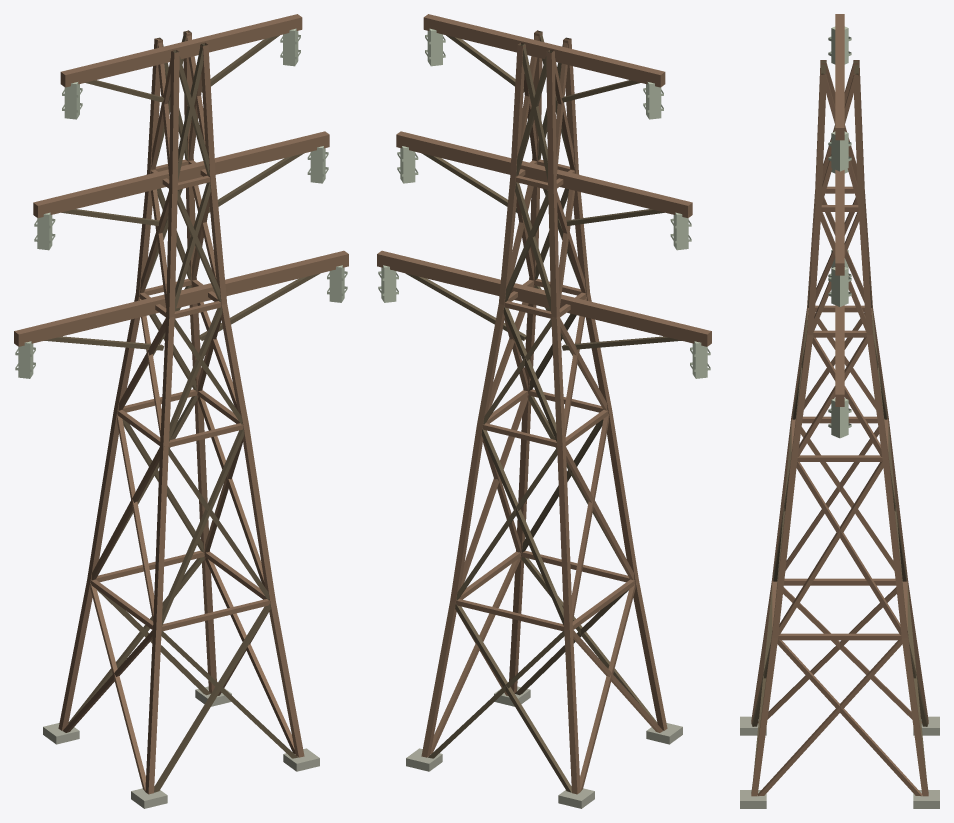
The model's file is ua_power_pylon_rusted.obj.
The picture shows the model from 3 angles, left to right: view 1: azimuth 30°, elevation 25°; view 2: azimuth 150°, elevation 25°; view 3: azimuth 270°, elevation 25°; orthographic projection.
Parts seen in each view (by area): view 1: ua_power_pylon_rusted; view 2: ua_power_pylon_rusted; view 3: ua_power_pylon_rusted.
Part boxes in pixels (bbox=[...]): ua_power_pylon_rusted: bbox=[14, 14, 348, 808]; ua_power_pylon_rusted: bbox=[377, 14, 711, 808]; ua_power_pylon_rusted: bbox=[740, 14, 939, 808].
Bounding box in the file's own units: 7.85 × 16.05 × 4.15.
